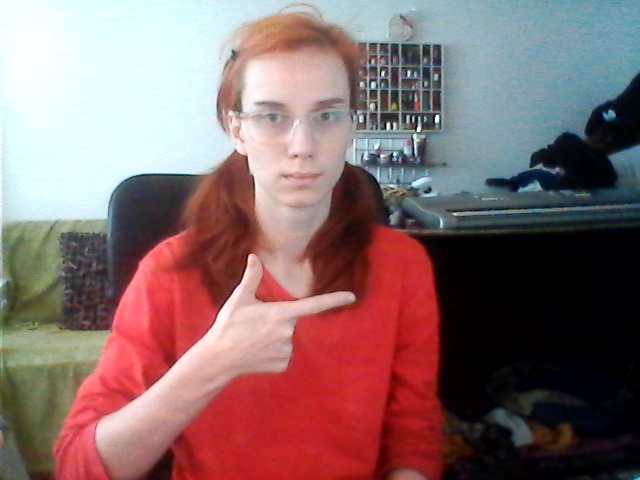dva_dve: (220, 252, 359, 391)
